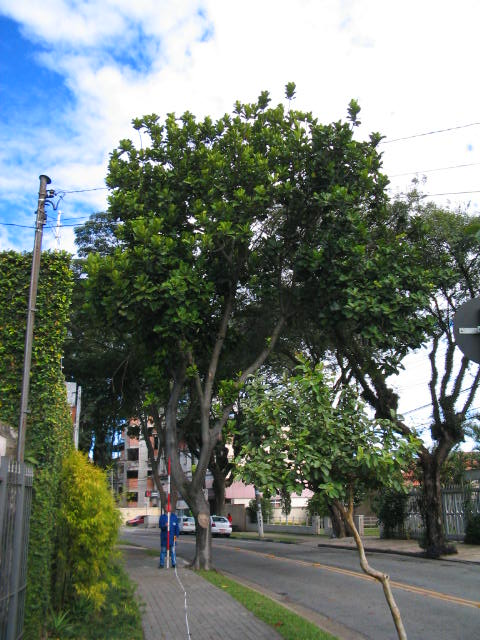crown: (87, 88, 455, 377)
stem: (178, 471, 228, 571)
stick: (160, 456, 177, 567)
tree: (82, 83, 458, 572)
